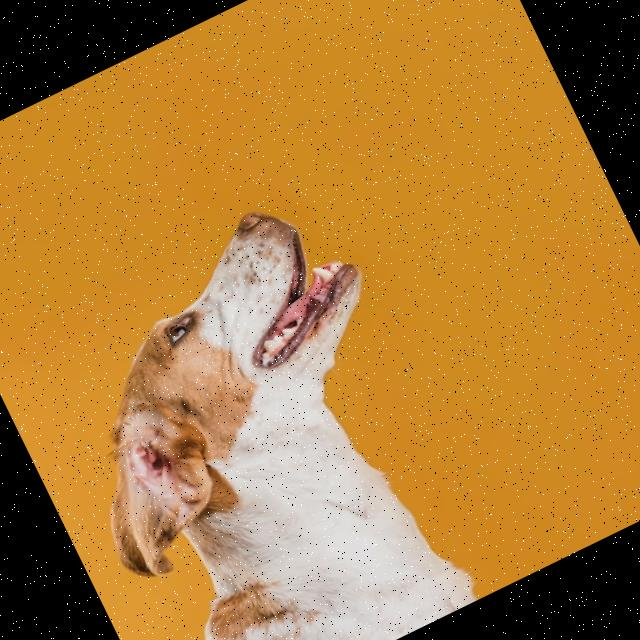Dog: (0, 178, 513, 640)
